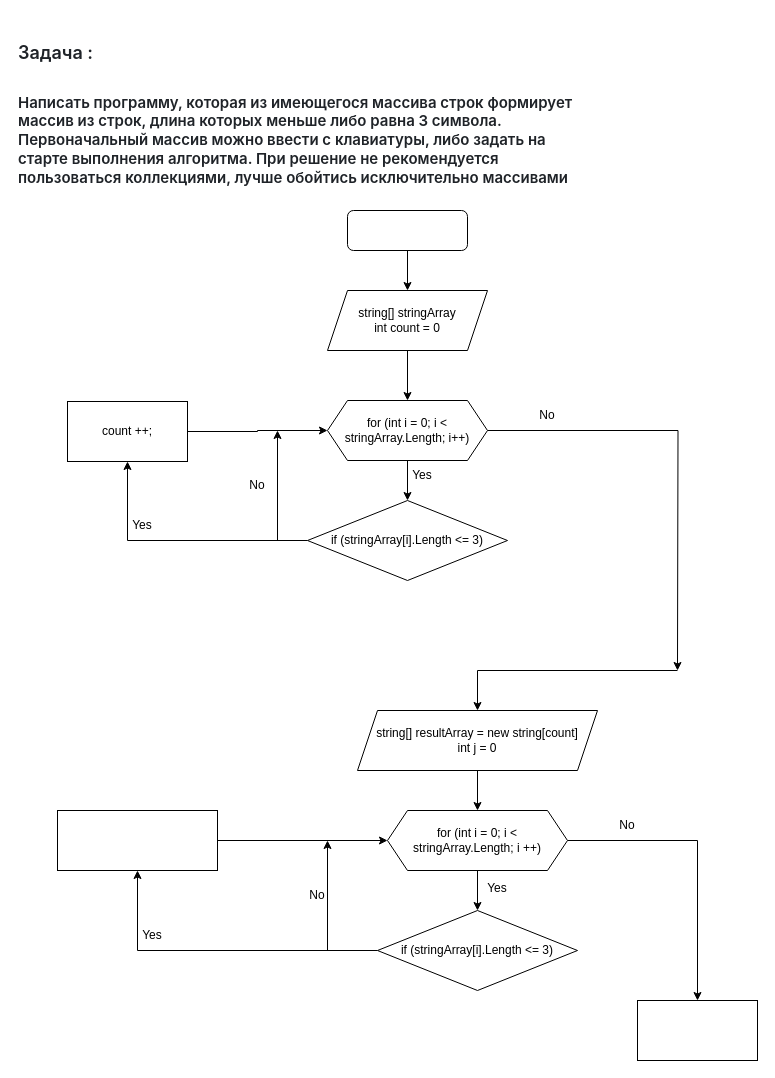
This 775x1078 diagram has some shape labels left out. The shapes that lost their labels are listed below. From the top down, each one's centre as x and y in pixels, then its label:
At point 407,230: "GetLessThreeSymbol".
At point 137,840: "resultArray[j] = stringArray[i]; j++;".
At point 697,1030: "return resultArray".
